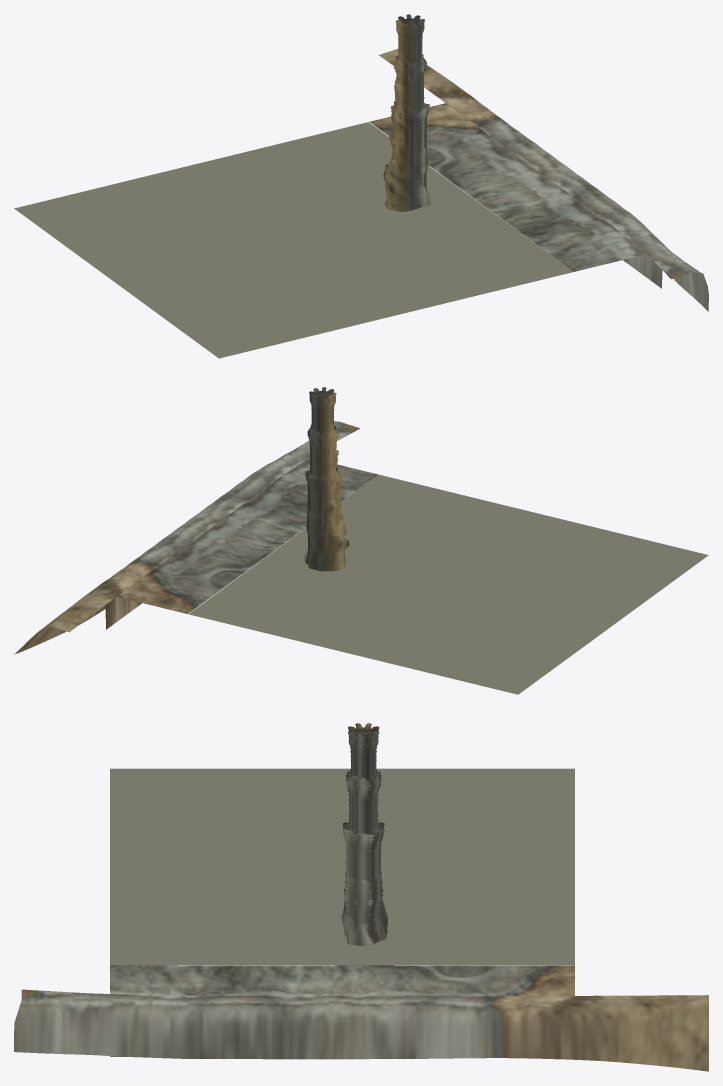
File: tile_2_3.glb
3 views of the same model, one above another, from view 1: azimuth 30°, elevation 25°; view 2: azimuth 150°, elevation 25°; view 3: azimuth 270°, elevation 25° (orthographic). The views are drawn at different scales.
Parts seen in each view (by area): view 1: mesh[0].031, mesh[0].037, mesh[0].212, mesh[1].025, mesh[2].020; view 2: mesh[0].031, mesh[0].037, mesh[0].212, mesh[1].025, mesh[2].020; view 3: mesh[0].031, mesh[0].212, mesh[0].037, mesh[1].025, mesh[2].020.
Boxes of the visible parts, x1,y1,x2,y2 form: mesh[0].031: [14, 122, 573, 358]; mesh[0].037: [369, 103, 662, 288]; mesh[0].212: [379, 49, 708, 311]; mesh[1].025: [390, 14, 429, 206]; mesh[2].020: [383, 54, 430, 211]; mesh[0].031: [189, 474, 708, 694]; mesh[0].037: [105, 458, 377, 629]; mesh[0].212: [14, 421, 359, 654]; mesh[1].025: [304, 387, 340, 556]; mesh[2].020: [304, 423, 349, 571]; mesh[0].031: [110, 768, 574, 965]; mesh[0].212: [14, 989, 708, 1071]; mesh[0].037: [110, 965, 574, 1056]; mesh[1].025: [342, 723, 384, 939]; mesh[2].020: [335, 790, 393, 965].
Bounding box in the file's own units: 1392 × 639 × 1530.
Materials: 2 (1 with a texture image).
